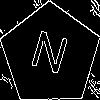N: (25, 30, 71, 84)
